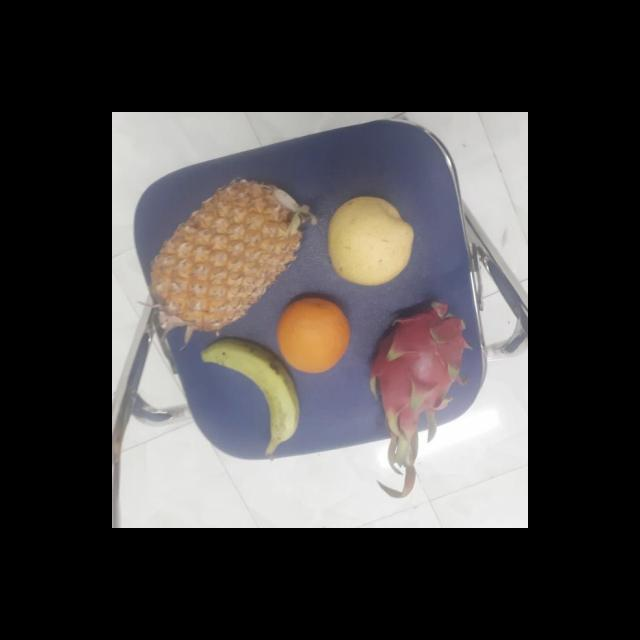orange: (275, 296, 355, 376)
pear: (324, 196, 416, 286)
pineapple: (141, 172, 307, 334)
pitaya: (368, 298, 471, 432)
